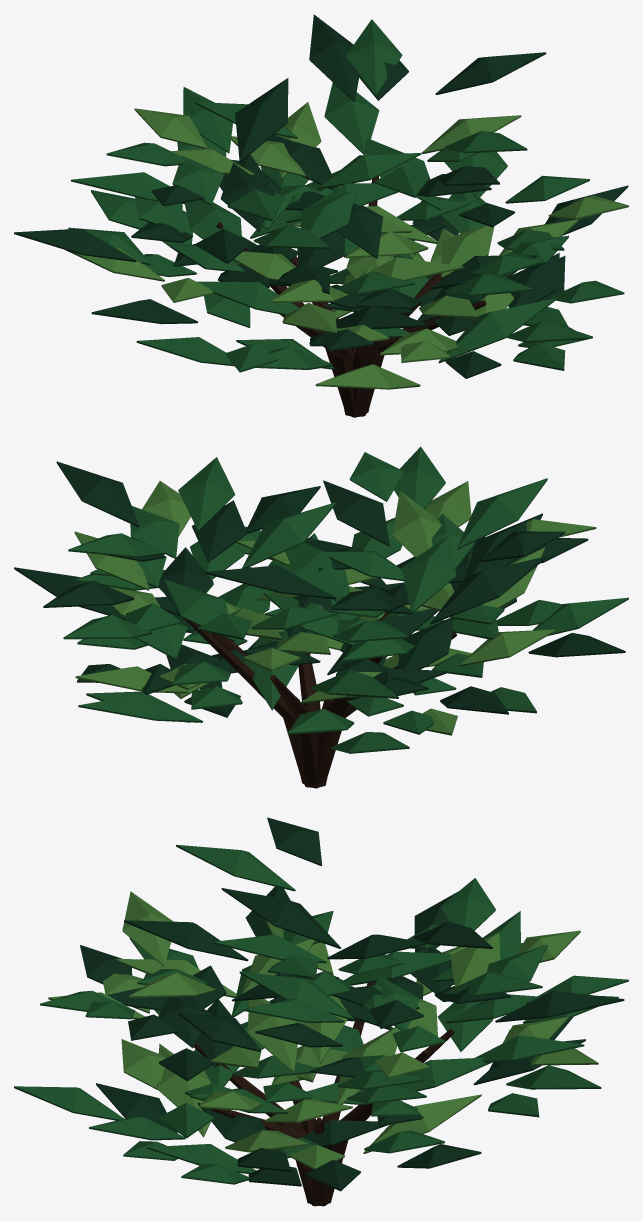
File: Arbusto_folhoso_LOD0.fbx
3 views of the same model, one above another, from view 1: azimuth 30°, elevation 25°; view 2: azimuth 150°, elevation 25°; view 3: azimuth 270°, elevation 25° (orthographic). The views are drawn at different scales.
Visible parts, largest first — view 1: Arbusto_folhoso_LOD0; view 2: Arbusto_folhoso_LOD0; view 3: Arbusto_folhoso_LOD0.
Part boxes in pixels (bbox=[...]): Arbusto_folhoso_LOD0: bbox=[14, 14, 628, 417]; Arbusto_folhoso_LOD0: bbox=[14, 446, 628, 788]; Arbusto_folhoso_LOD0: bbox=[14, 817, 628, 1206].
Bounding box in the file's own units: 261 × 126 × 247.
Materials: 1 (1 with a texture image).
